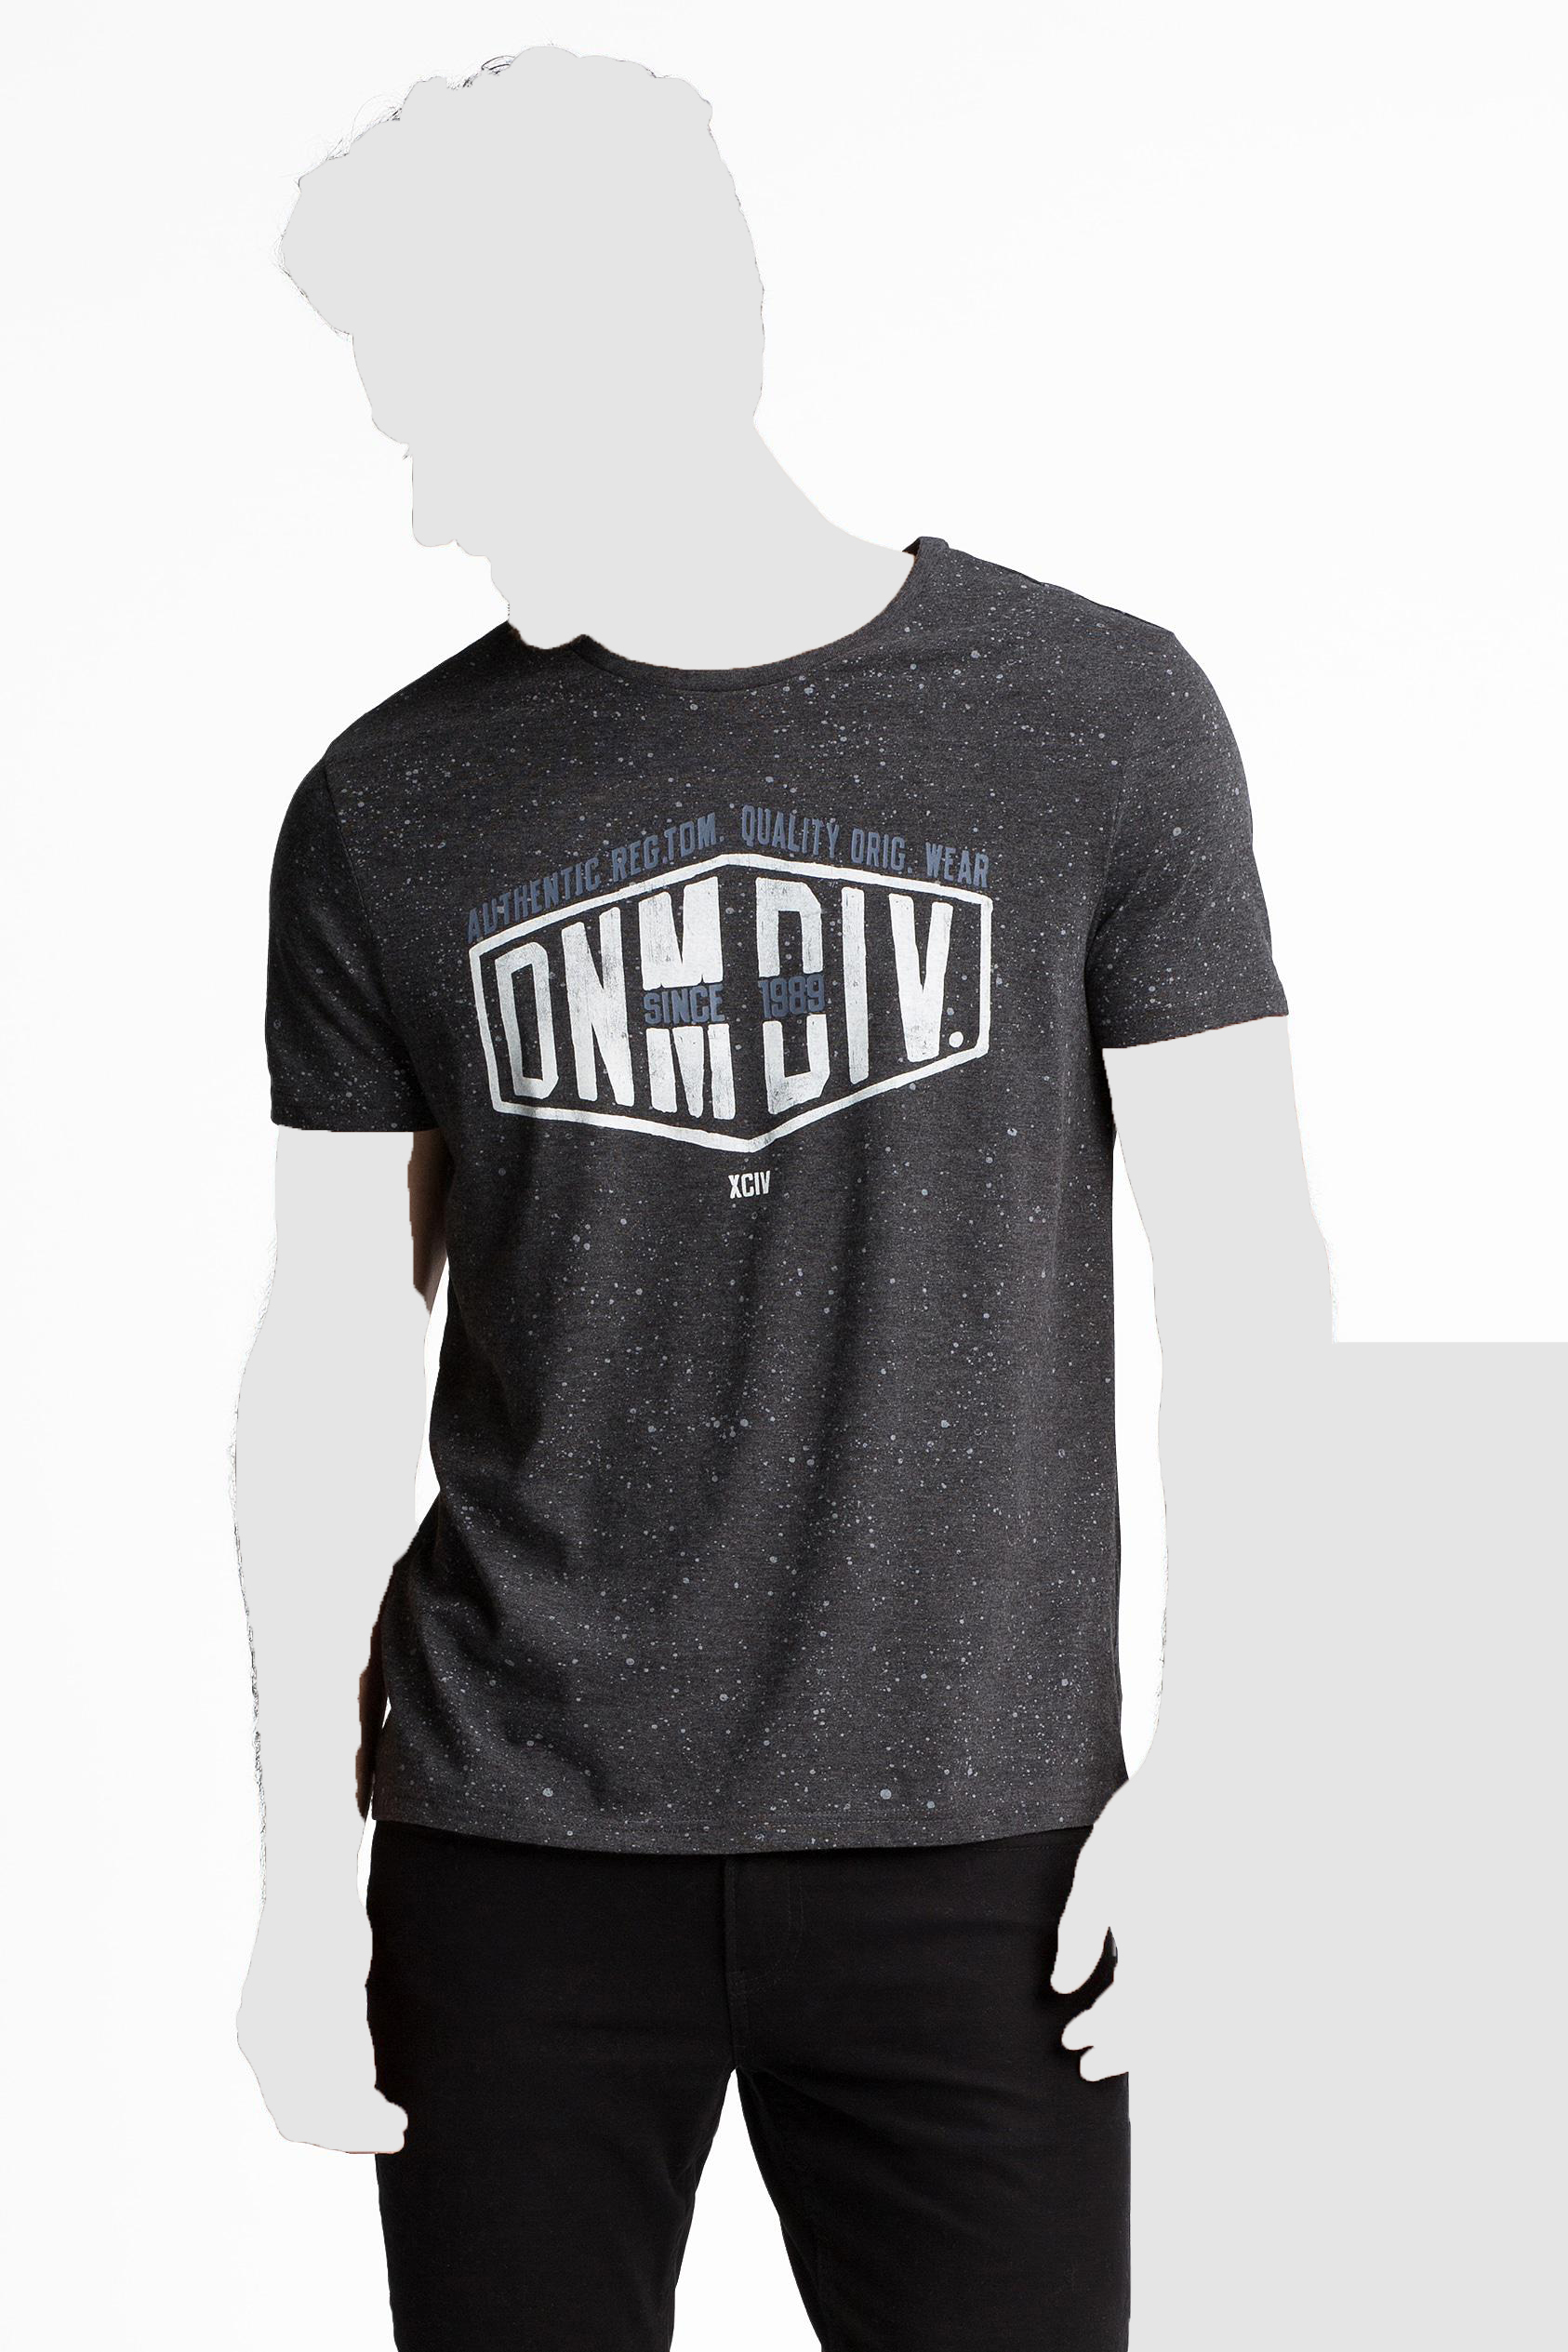teeshirt: (245, 542, 1293, 1858)
